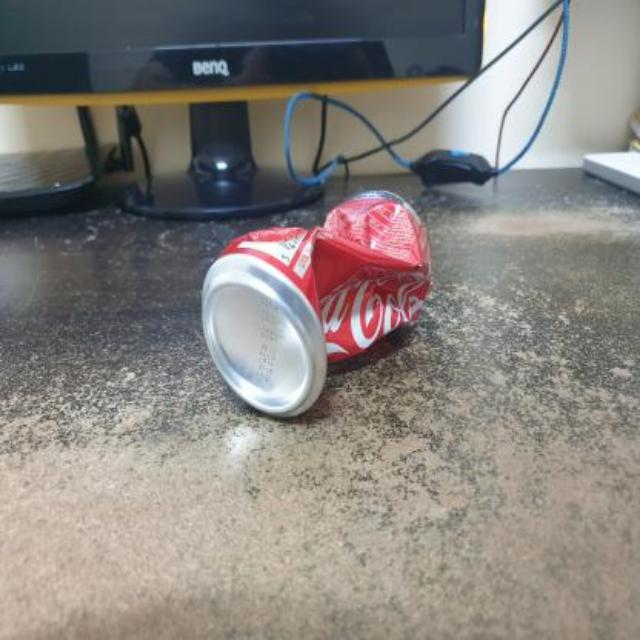metal: (203, 191, 429, 415)
